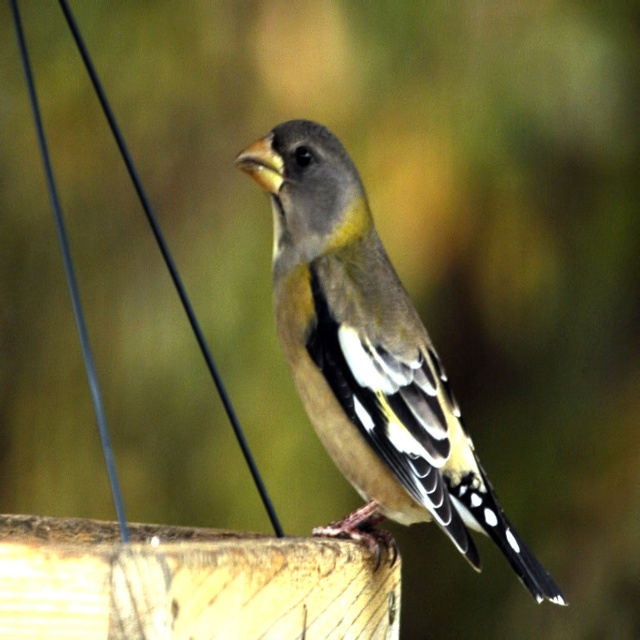Sparrow: (233, 118, 568, 608)
